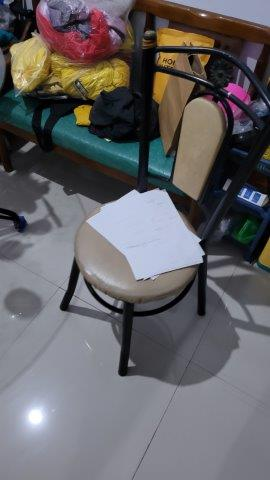kertas: (81, 182, 205, 281)
